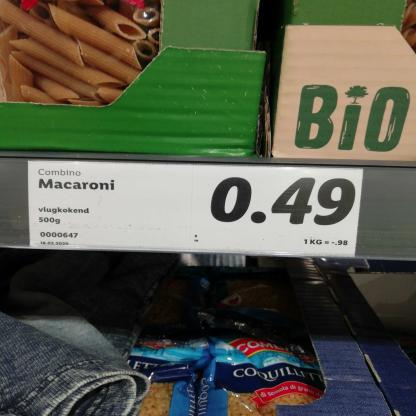prtg: (28, 161, 366, 258)
